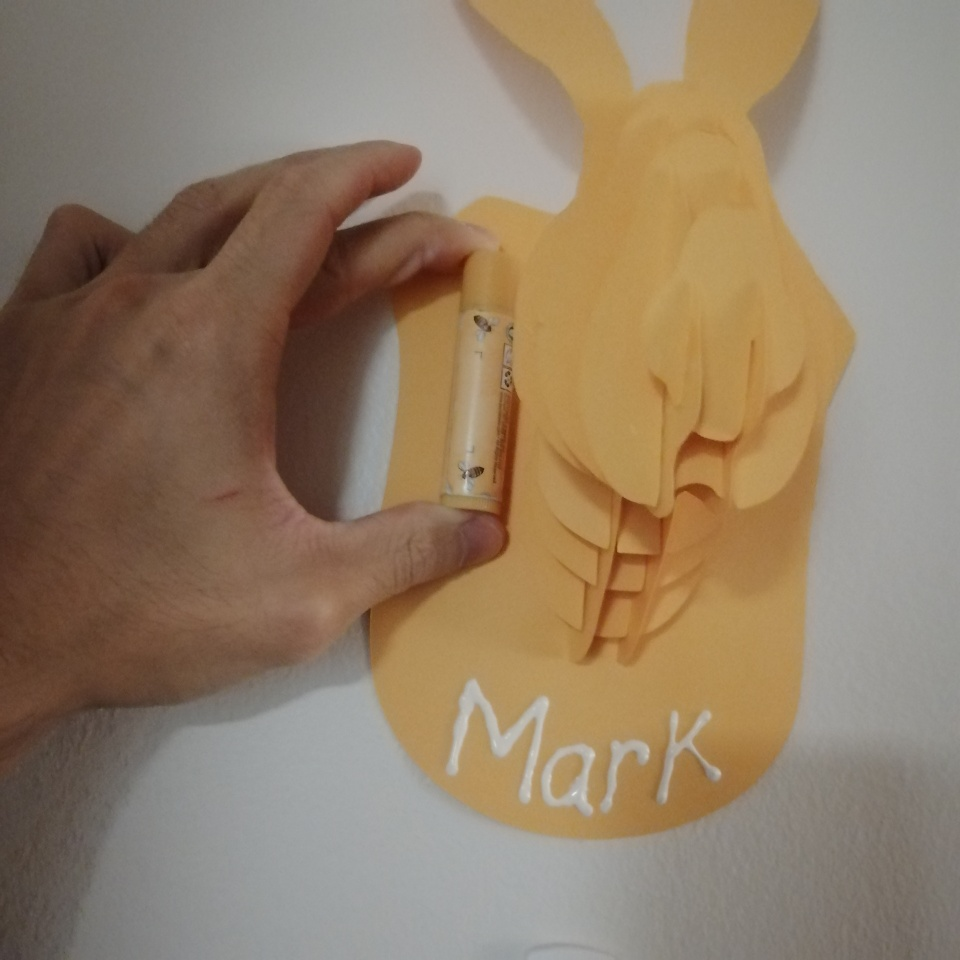chapstick: (439, 250, 522, 517)
